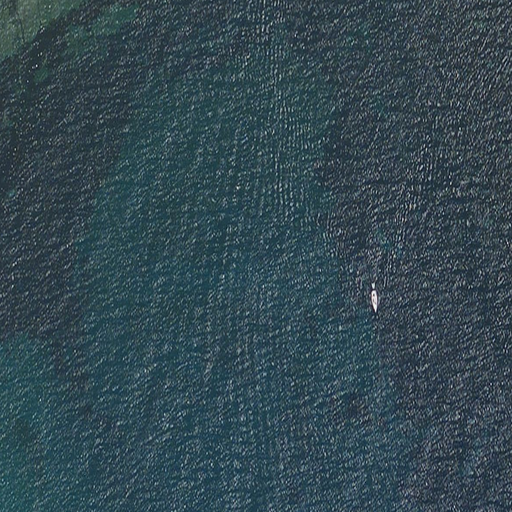ship: (368, 285, 380, 312)
